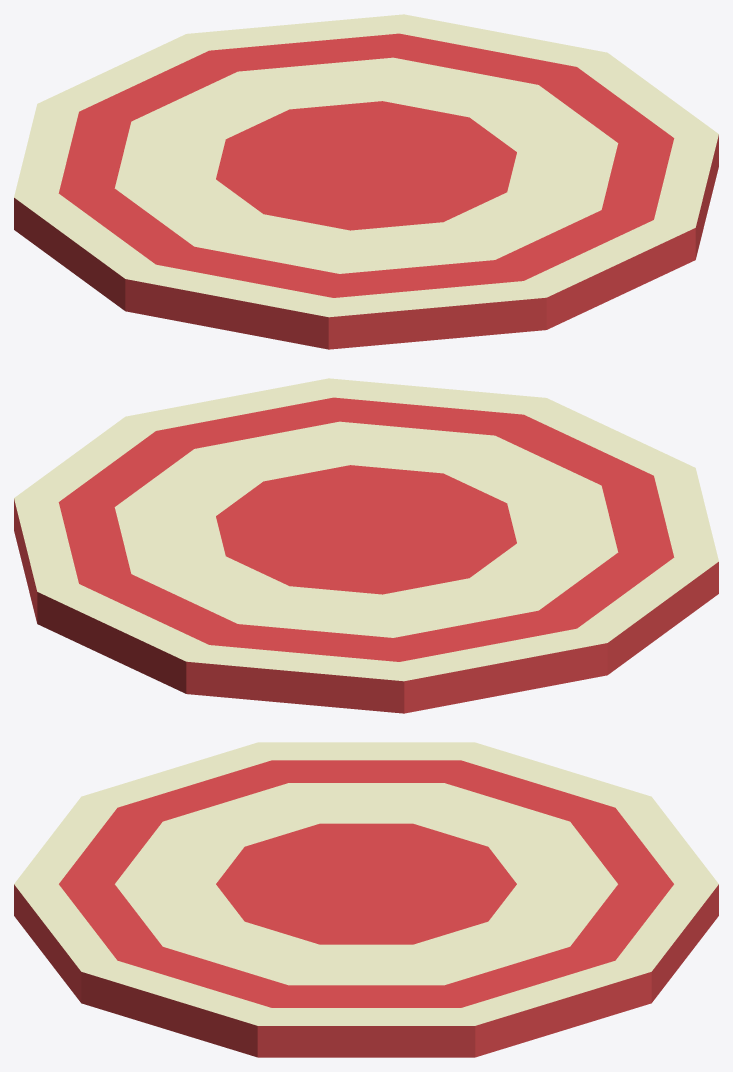
File: TrampolineOrange.fbx
The picture shows the model from 3 angles, top to bottom: view 1: azimuth 30°, elevation 25°; view 2: azimuth 150°, elevation 25°; view 3: azimuth 270°, elevation 25°; orthographic projection. The views are drawn at different scales.
Visible parts, largest first — view 1: TrampolineOrange; view 2: TrampolineOrange; view 3: TrampolineOrange.
Boxes of the visible parts, box(x1,y1,x2,y2) form: TrampolineOrange: box(14, 14, 718, 349); TrampolineOrange: box(14, 378, 718, 713); TrampolineOrange: box(14, 742, 718, 1057).
Bounding box in the file's own units: 880 × 45.83 × 925.
